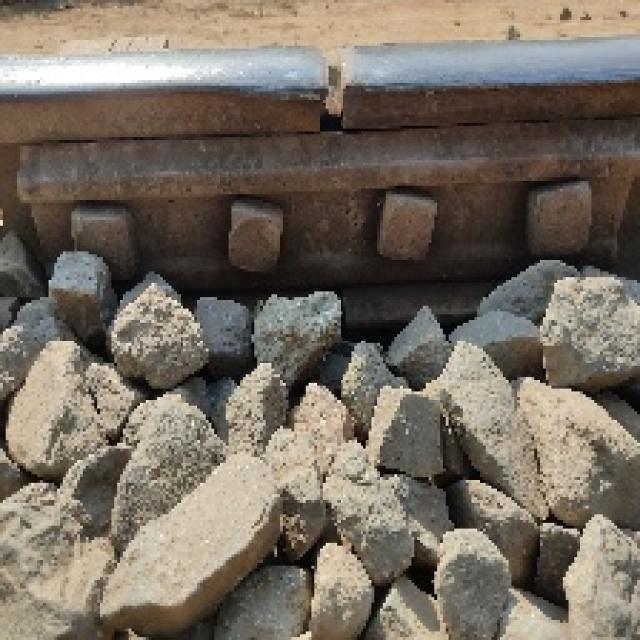Good Joint: (27, 121, 635, 298)
